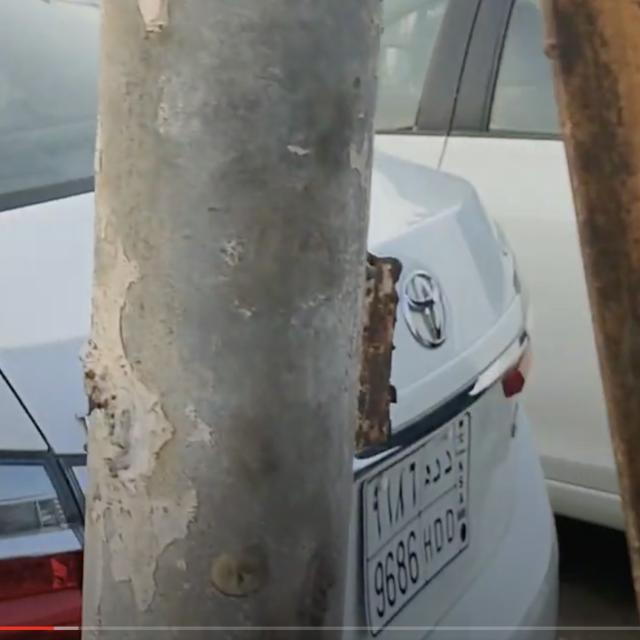license_plate: (361, 399, 491, 640)
